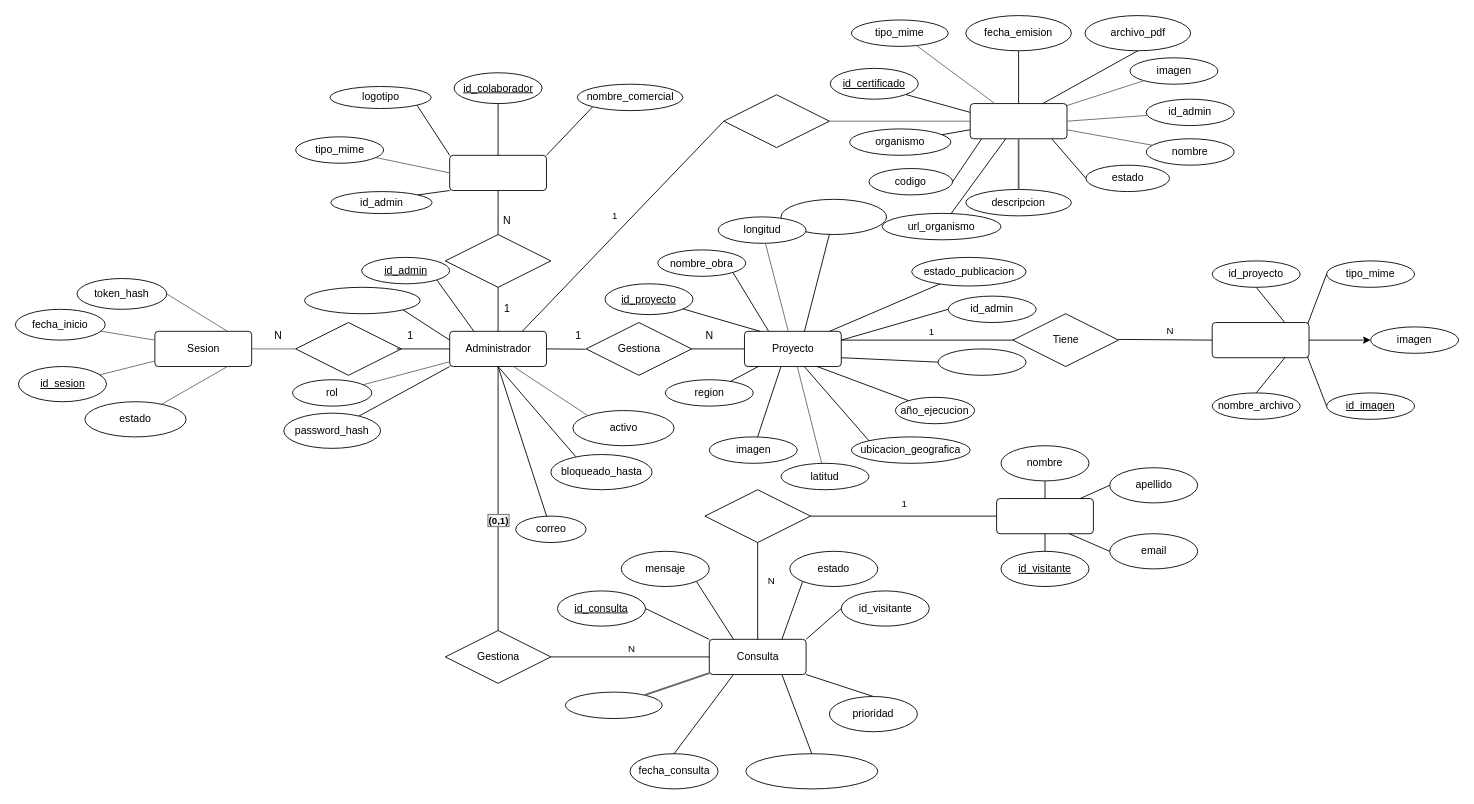
Some shapes in this 1474 by 804 pixel diagram are drawn without their labels. Each missing label, with the box of its shape:
categoria: (937, 348, 1026, 375)
Certificado: (969, 103, 1067, 139)
Colaborador: (449, 154, 546, 191)
Crea: (444, 234, 551, 287)
created_at: (565, 691, 662, 719)
descripcion_tecnica: (780, 198, 887, 235)
Envía: (704, 489, 810, 543)
id_admin_responsable: (745, 753, 878, 789)
Imagen_Proyecto: (1211, 322, 1309, 358)
Inicia: (295, 322, 401, 375)
intentos_fallidos: (304, 286, 420, 314)
Publica: (723, 94, 829, 148)
Visitante: (996, 498, 1093, 534)
